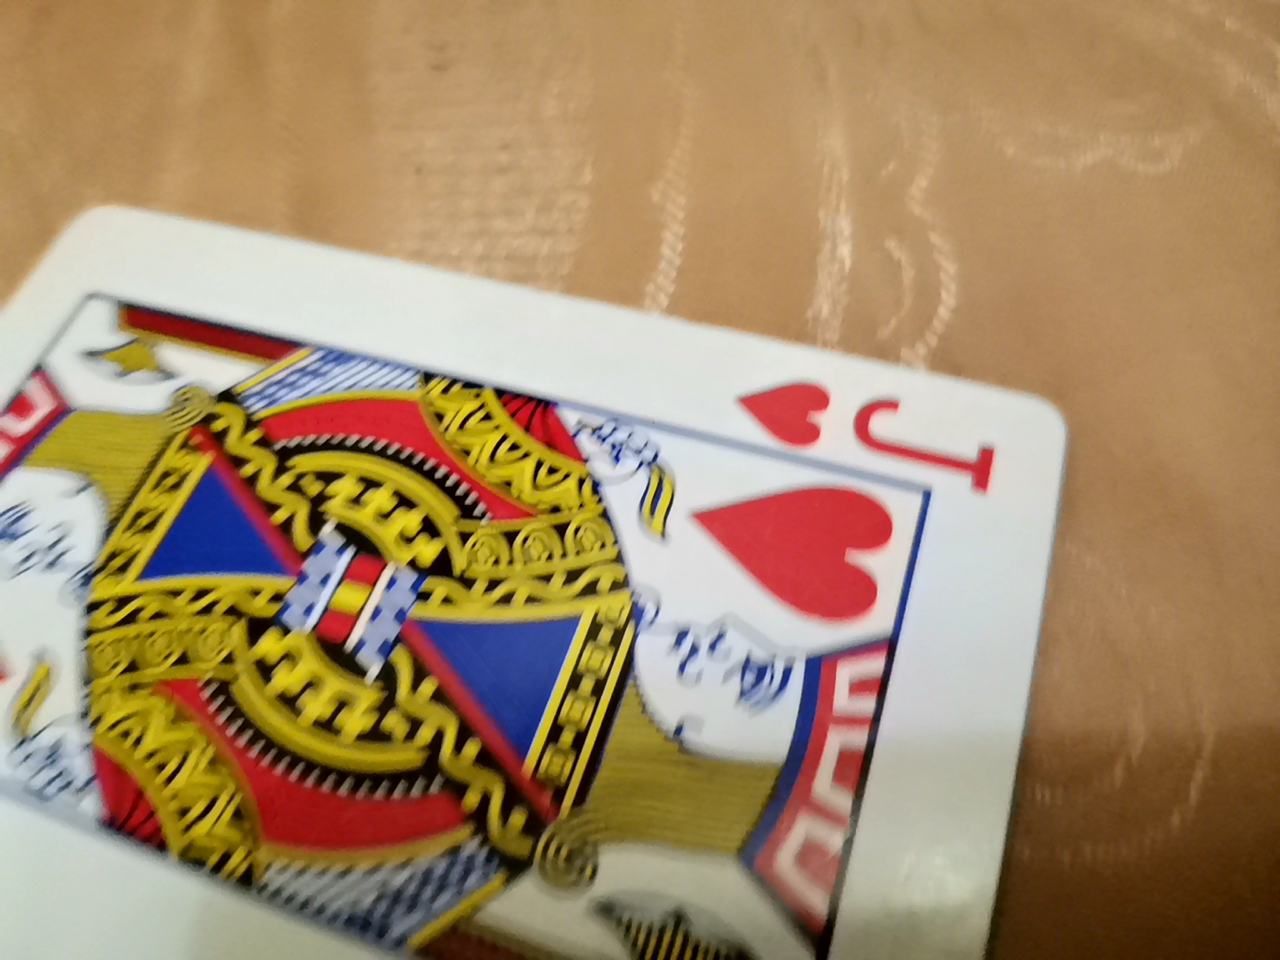hx j: (5, 153, 1094, 951)
